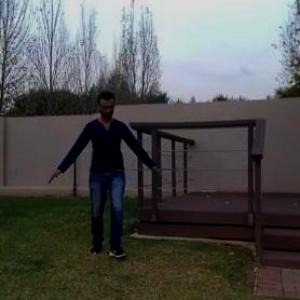land: (54, 81, 167, 276)
